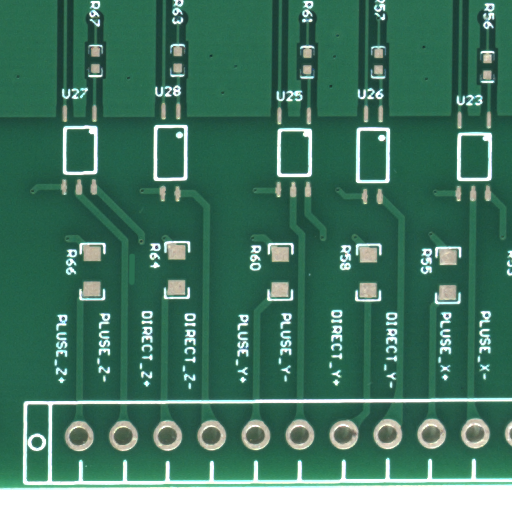Spurious_copper: (132, 270, 142, 305)
